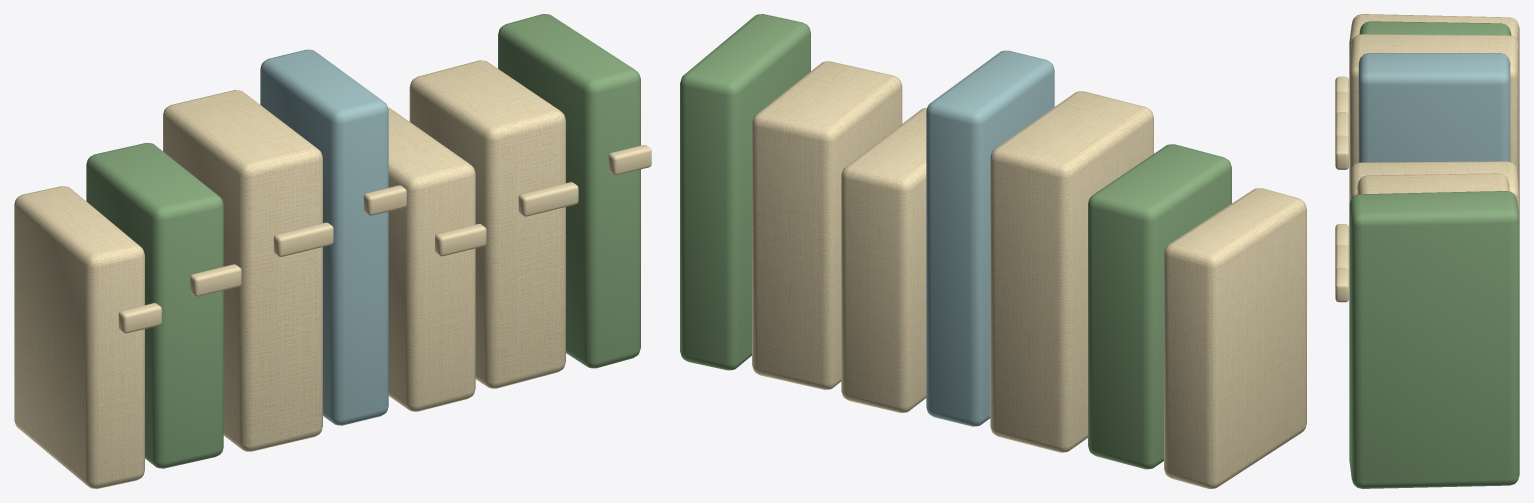
Rendered from books-upright.glb.
The picture shows the model from 3 angles, left to right: view 1: azimuth 30°, elevation 25°; view 2: azimuth 150°, elevation 25°; view 3: azimuth 270°, elevation 25°; orthographic projection. The views are drawn at different scales.
Parts seen in each view (by area): view 1: books-upright; view 2: books-upright; view 3: books-upright.
Part boxes in pixels (x1,y1,x2,y2): books-upright: (14, 14, 651, 488); books-upright: (680, 14, 1306, 488); books-upright: (1335, 14, 1519, 488).
Bounding box in the file's own units: 0.5359 × 0.2914 × 0.1617.
5 materials, 3 textured.
